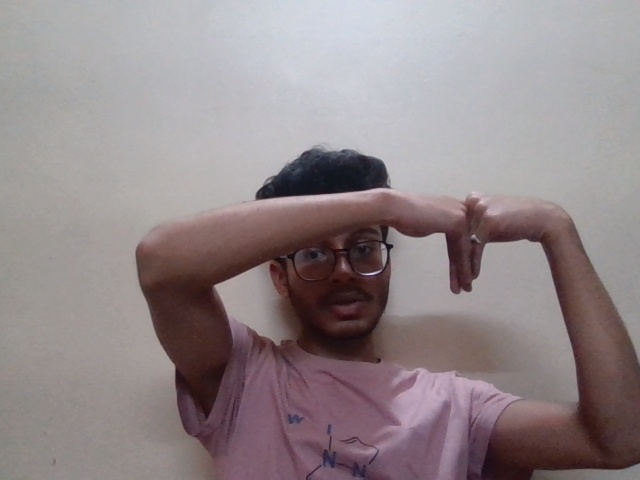yesterday: (347, 177, 556, 290)
